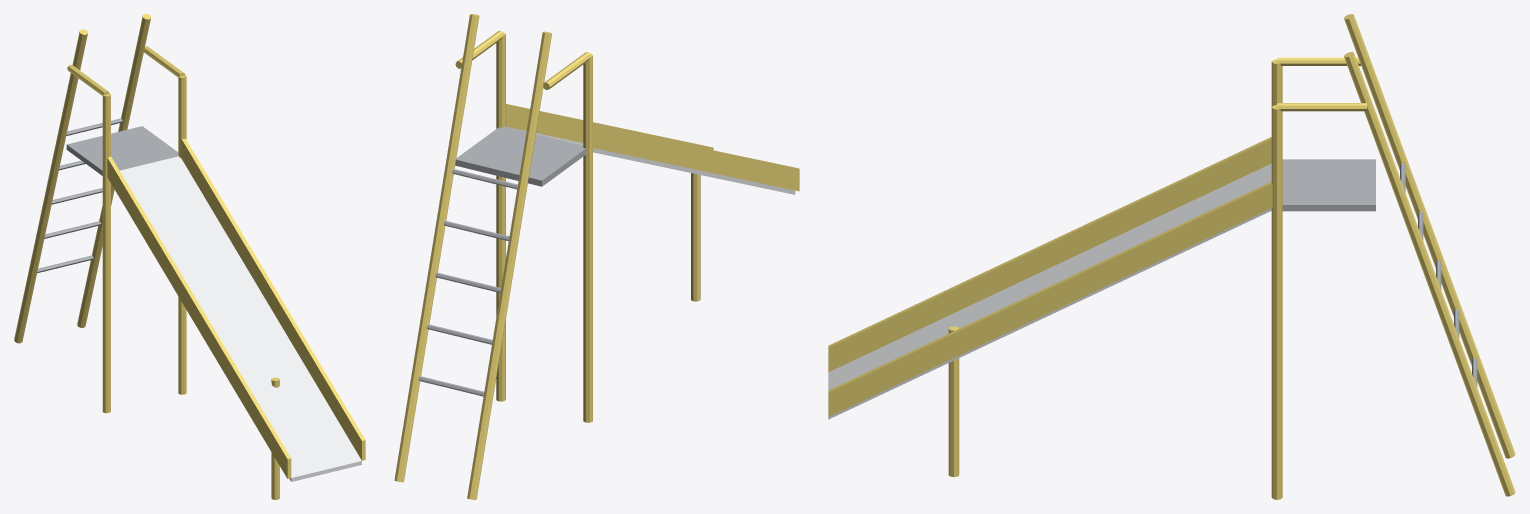
File: slide.glb
3 views of the same model, side by side, from view 1: azimuth 30°, elevation 25°; view 2: azimuth 150°, elevation 25°; view 3: azimuth 270°, elevation 25° (orthographic). The views are drawn at different scales.
Parts seen in each view (by area): view 1: slide_chrome, slide_yellowp, slide_steel; view 2: slide_yellowp, slide_steel, slide_chrome; view 3: slide_yellowp, slide_chrome, slide_steel.
Boxes of the visible parts, x1,y1,x2,y2 form: slide_chrome: (120,156,361,481); slide_yellowp: (14,14,365,499); slide_steel: (37,118,178,273); slide_yellowp: (394,14,799,499); slide_steel: (418,126,585,396); slide_chrome: (510,127,795,194); slide_yellowp: (828,14,1515,499); slide_chrome: (828,163,1271,419); slide_steel: (1282,159,1477,387).
Bounding box in the file's own units: 0.66 × 2.72 × 3.83.
